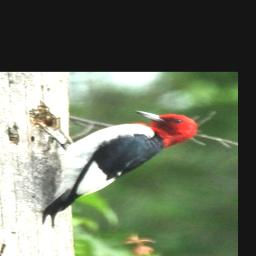Woodpecker: (43, 109, 198, 226)
